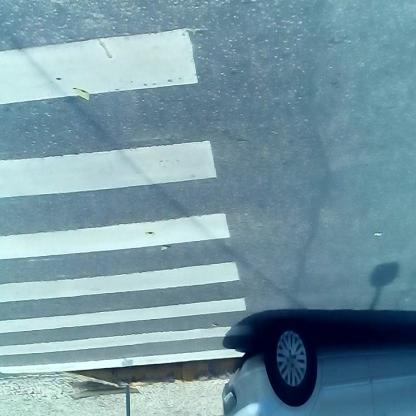crosswalk: (1, 28, 254, 361)
sidewalk: (2, 358, 262, 416)
